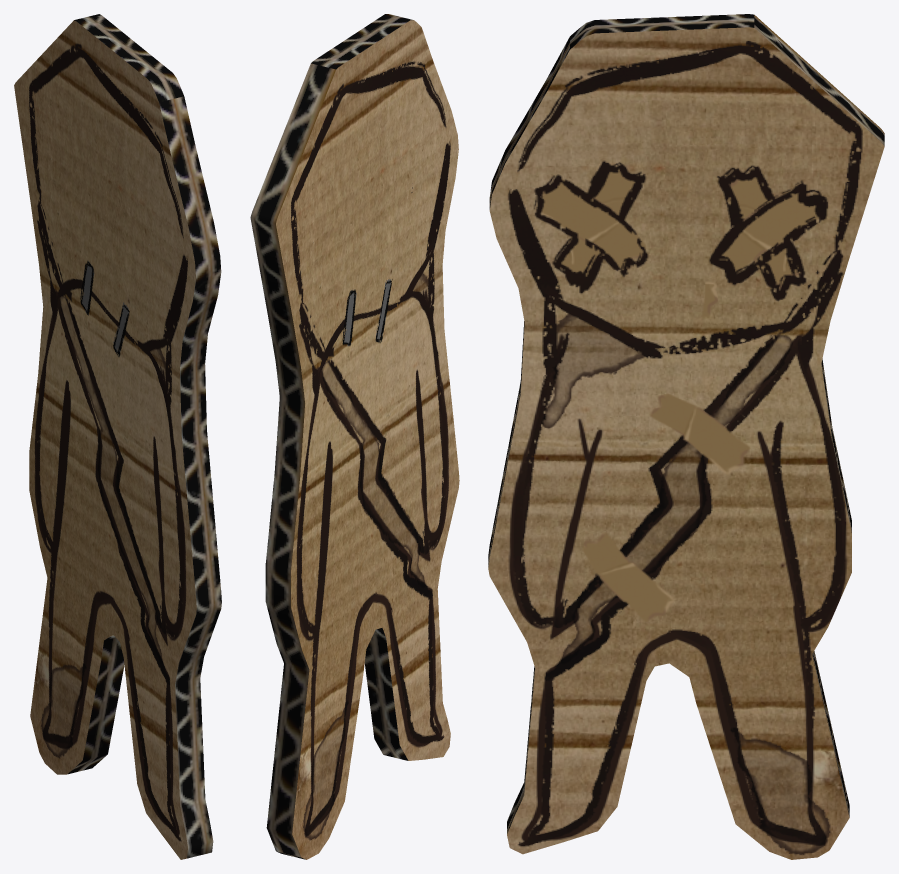
Rendered from Human_Lera_1.fbx.
3 renders of one model, left to right at view 1: azimuth 30°, elevation 25°; view 2: azimuth 150°, elevation 25°; view 3: azimuth 270°, elevation 25°, orthographic. The views are drawn at different scales.
Parts seen in each view (by area): view 1: Plane; view 2: Plane; view 3: Plane.
Part boxes in pixels (left/top/right/bottom): Plane: left=14, top=14, right=221, bottom=859; Plane: left=250, top=14, right=459, bottom=859; Plane: left=488, top=14, right=884, bottom=859.
Size of the model in its own units: 5.39 by 157 by 67.65.
